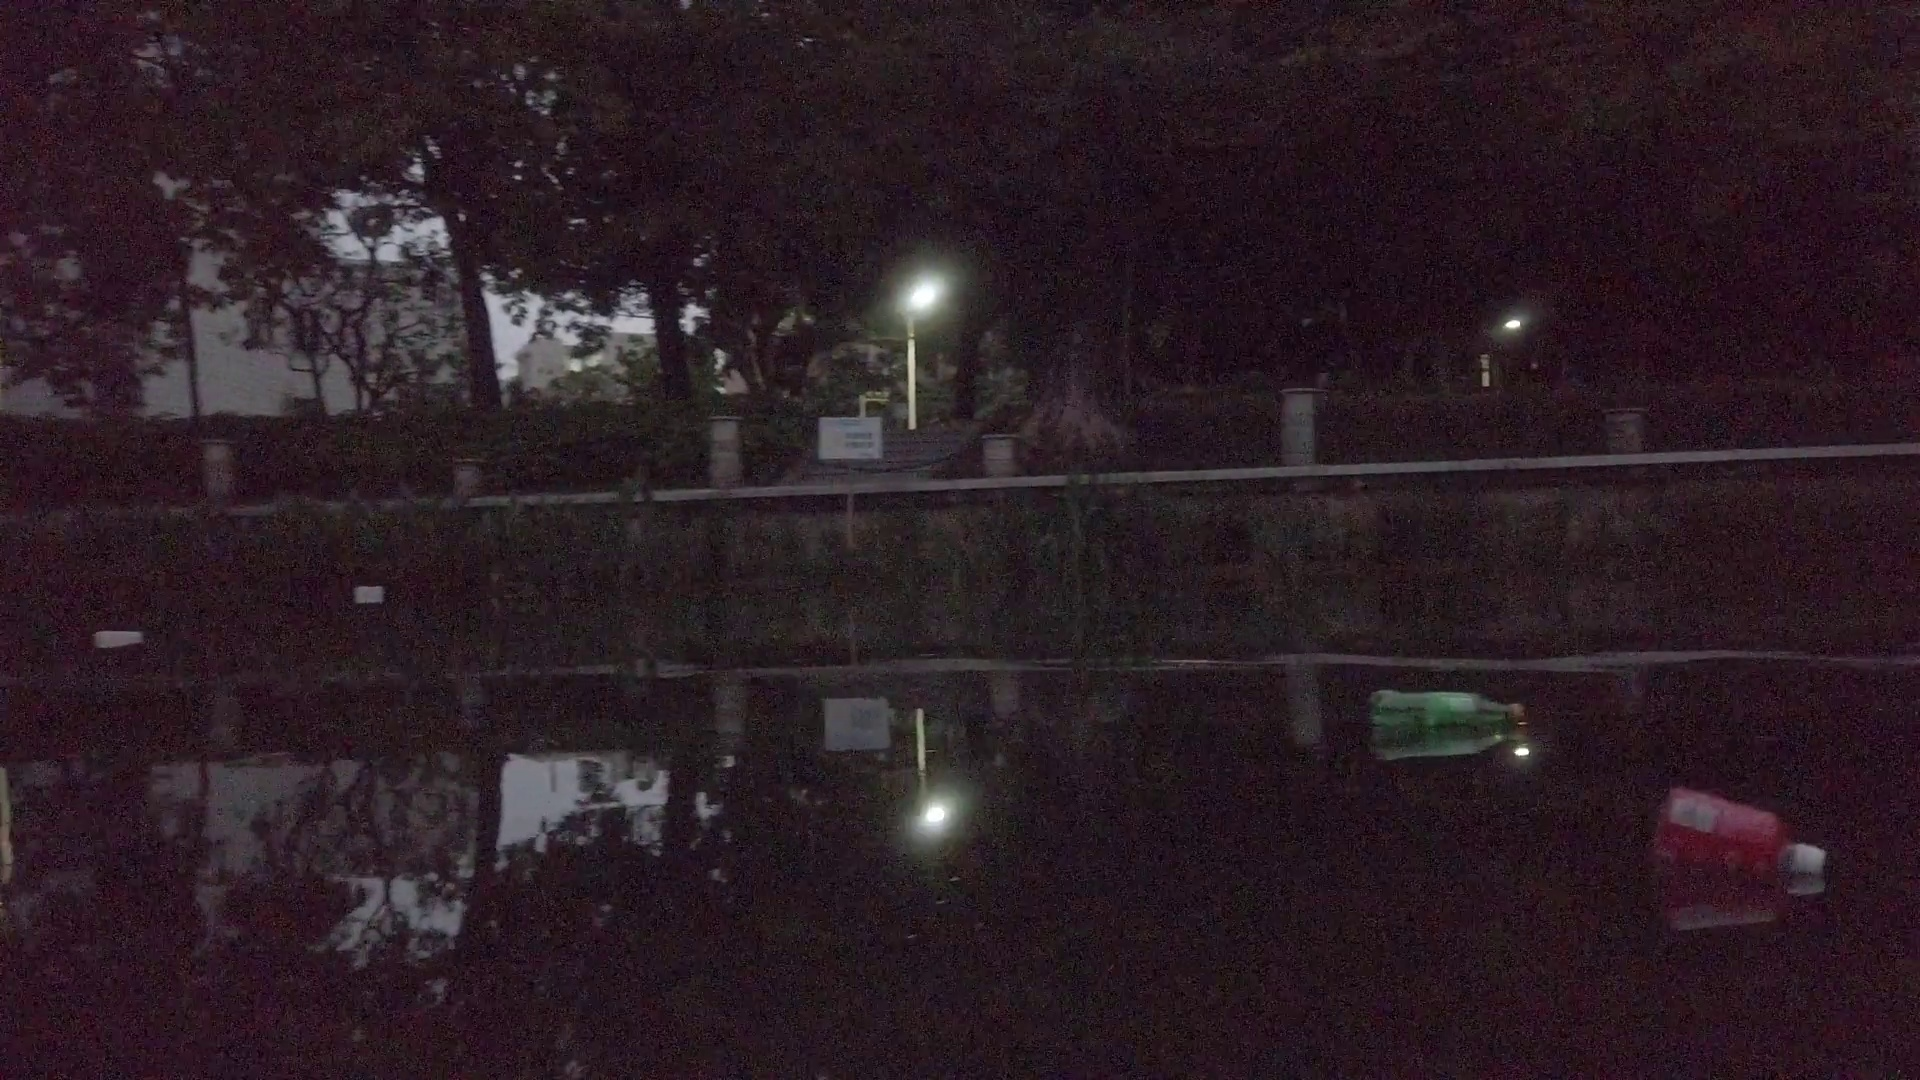bottle: (1658, 786, 1830, 872), (1367, 687, 1530, 732)
carton: (95, 632, 145, 647), (356, 583, 385, 607)
